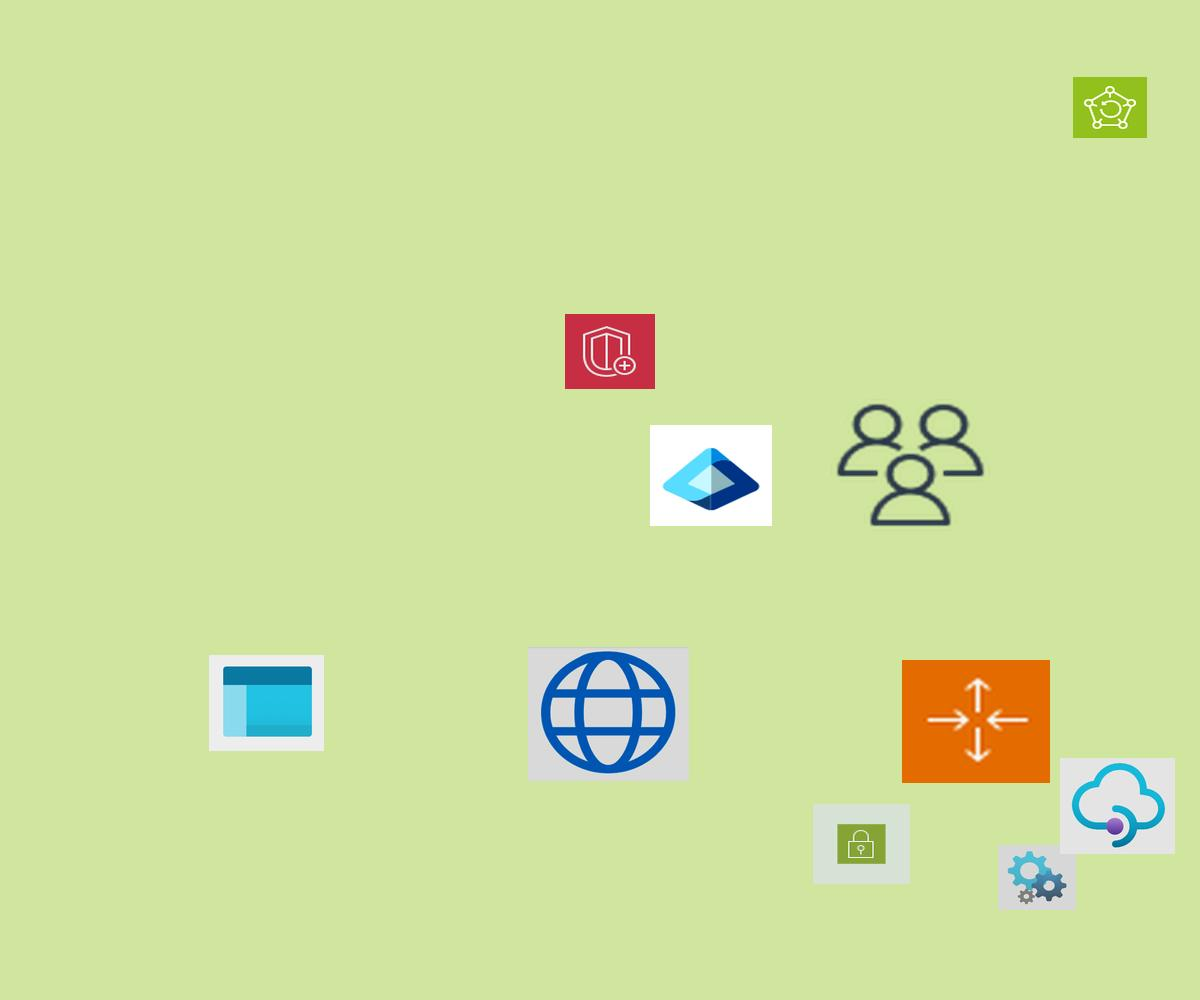AWS-Backup: (1073, 77, 1147, 138)
AWS-Public-subnet: (813, 804, 910, 884)
AWS-Res_Users: (831, 399, 990, 531)
AWS-Scaling-group: (902, 660, 1050, 783)
AWS-Shield: (565, 314, 655, 389)
Azure_api: (998, 845, 1076, 910)
Azure_api_gateway: (1060, 758, 1175, 854)
Azure_http: (528, 647, 689, 781)
Azure_management-portal: (209, 655, 324, 751)
Azure_microsoft_entra: (650, 425, 772, 526)
